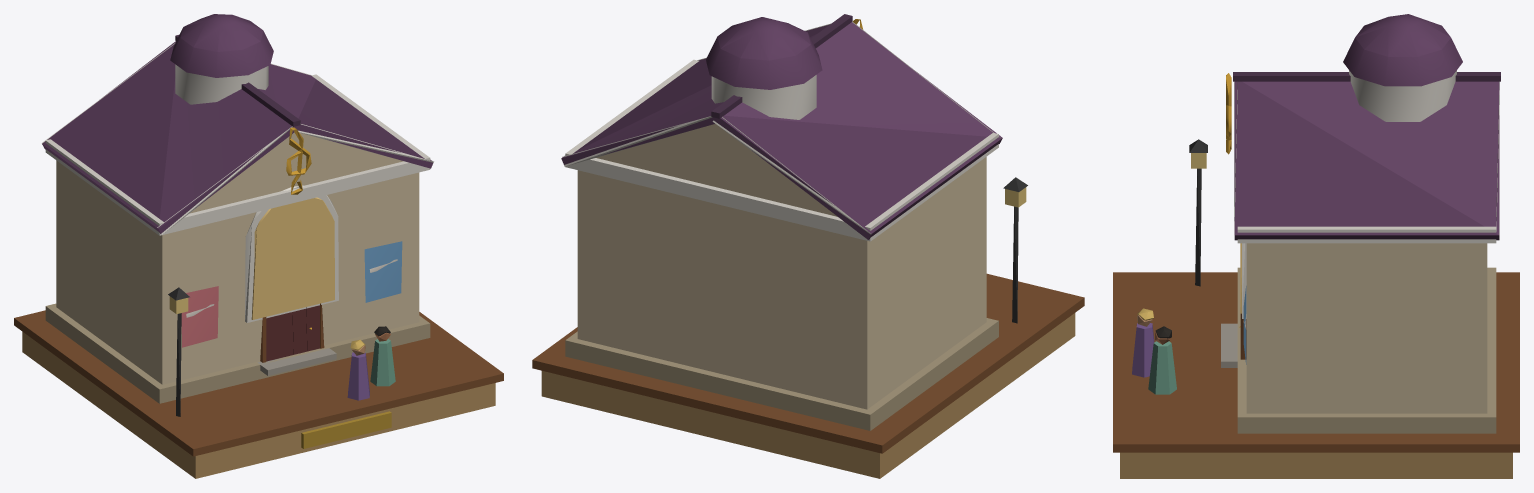
File: music_hall_souvenir.glb
3 renders of one model, left to right at view 1: azimuth 30°, elevation 25°; view 2: azimuth 150°, elevation 25°; view 3: azimuth 270°, elevation 25°, orthographic. The views are drawn at different scales.
Visible parts, largest first — view 1: decor-music_hall_souvenir; view 2: decor-music_hall_souvenir; view 3: decor-music_hall_souvenir.
Boxes of the visible parts, left/top/right/bottom form: decor-music_hall_souvenir: left=14, top=14, right=503, bottom=478; decor-music_hall_souvenir: left=532, top=14, right=1084, bottom=478; decor-music_hall_souvenir: left=1113, top=14, right=1519, bottom=478.
Bounding box in the file's own units: 1.76 × 1.8 × 1.76.
